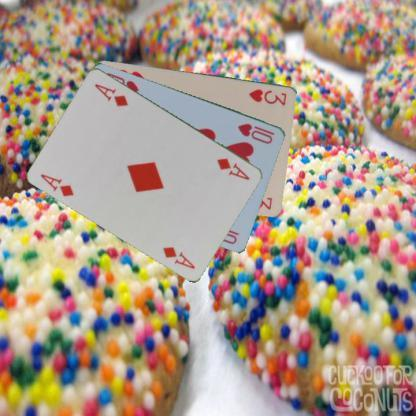10h: (235, 120, 276, 145)
3h: (246, 86, 288, 106)
Ad: (214, 154, 252, 182), (38, 171, 76, 198)
